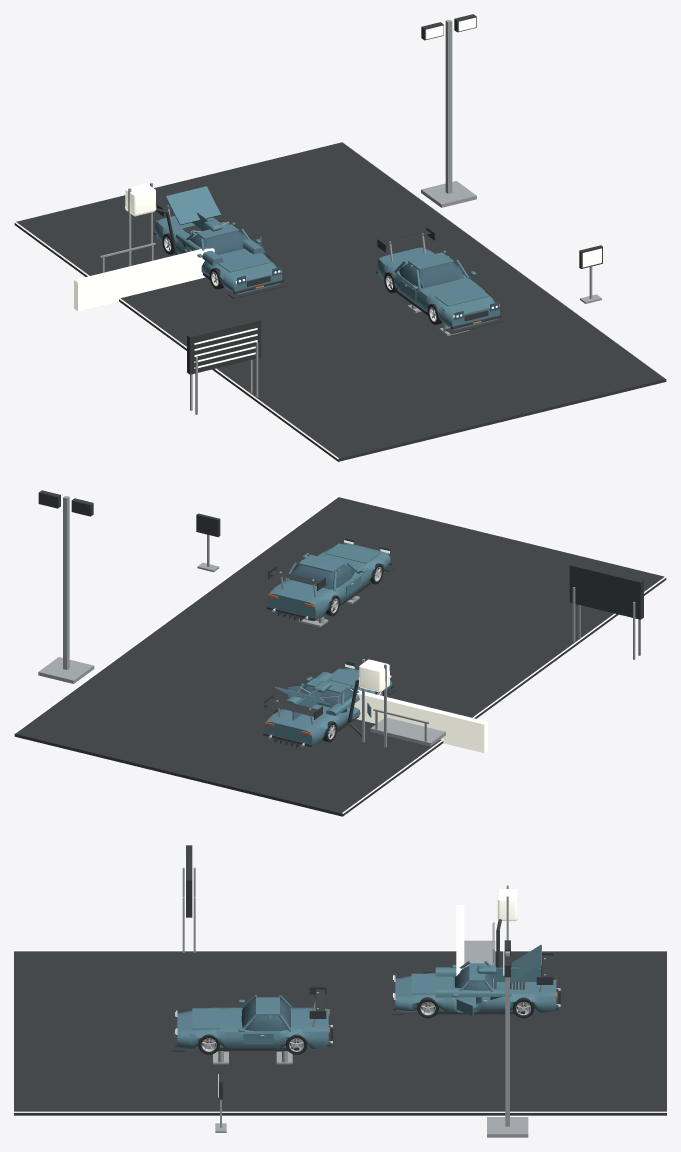
Rendered from endurance-and-gt-paddock-night-pit-lane-d51e11aa-starter-scene__14965.glb.
3 views of the same model, one above another, from view 1: azimuth 30°, elevation 25°; view 2: azimuth 150°, elevation 25°; view 3: azimuth 270°, elevation 25° (orthographic).
Parts seen in each view (by area): view 1: 000-pit-lane-straight/1, 003-driver-change-platform/0, 002-front-engine-gt-coupe/0, 001-prototype-open/0, 009-night-timing-screen/1, 008-light-tower/0, 000-pit-lane-straight/0, 001-prototype-open/engine-cover, 002-front-engine-gt-coupe/1, 002-front-engine-gt-coupe/4, 001-prototype-open/1, 004-fuel-rig/1 (+2 smaller); view 2: 000-pit-lane-straight/1, 002-front-engine-gt-coupe/0, 001-prototype-open/0, 003-driver-change-platform/0, 009-night-timing-screen/1, 008-light-tower/0, 000-pit-lane-straight/0, 003-driver-change-platform/1, 002-front-engine-gt-coupe/1, 001-prototype-open/4, 004-fuel-rig/1, 002-front-engine-gt-coupe/4 (+5 smaller); view 3: 000-pit-lane-straight/1, 001-prototype-open/0, 002-front-engine-gt-coupe/0, 000-pit-lane-straight/0, 008-light-tower/0, 001-prototype-open/4, 002-front-engine-gt-coupe/1, 002-front-engine-gt-coupe/4, 003-driver-change-platform/1, 004-fuel-rig/1, 001-prototype-open/engine-cover, 002-front-engine-gt-coupe/bonnet (+5 smaller).
Boxes of the visible parts, x1,y1,x2,y2 form: 000-pit-lane-straight/1: (14, 142, 666, 461); 003-driver-change-platform/0: (74, 248, 214, 311); 002-front-engine-gt-coupe/0: (377, 247, 499, 329); 001-prototype-open/0: (155, 212, 282, 294); 009-night-timing-screen/1: (187, 318, 261, 374); 008-light-tower/0: (421, 19, 476, 207); 000-pit-lane-straight/0: (14, 141, 666, 459); 001-prototype-open/engine-cover: (165, 186, 221, 225); 002-front-engine-gt-coupe/1: (399, 262, 498, 319); 002-front-engine-gt-coupe/4: (376, 227, 504, 334); 001-prototype-open/1: (190, 231, 281, 284); 004-fuel-rig/1: (125, 183, 156, 216); 000-pit-lane-straight/1: (14, 497, 666, 816); 002-front-engine-gt-coupe/0: (268, 543, 390, 621); 001-prototype-open/0: (264, 668, 391, 747); 003-driver-change-platform/0: (350, 689, 487, 752); 009-night-timing-screen/1: (569, 563, 643, 619); 008-light-tower/0: (38, 496, 94, 683); 000-pit-lane-straight/0: (14, 496, 666, 813); 003-driver-change-platform/1: (370, 709, 445, 746); 002-front-engine-gt-coupe/1: (290, 537, 389, 589); 001-prototype-open/4: (263, 680, 396, 747); 004-fuel-rig/1: (359, 659, 389, 692); 002-front-engine-gt-coupe/4: (267, 562, 395, 621); 000-pit-lane-straight/1: (14, 951, 666, 1115); 001-prototype-open/0: (395, 961, 556, 1012); 002-front-engine-gt-coupe/0: (177, 995, 328, 1048); 000-pit-lane-straight/0: (14, 950, 666, 1112); 008-light-tower/0: (487, 951, 528, 1137); 001-prototype-open/4: (391, 953, 560, 1014); 002-front-engine-gt-coupe/1: (175, 1000, 290, 1036); 002-front-engine-gt-coupe/4: (172, 987, 333, 1051); 003-driver-change-platform/1: (464, 922, 495, 967); 004-fuel-rig/1: (497, 889, 517, 921); 001-prototype-open/engine-cover: (512, 945, 541, 983); 002-front-engine-gt-coupe/bonnet: (192, 1008, 219, 1029).
Size of the model in its own units: 16.25 by 6.12 by 20.5.
